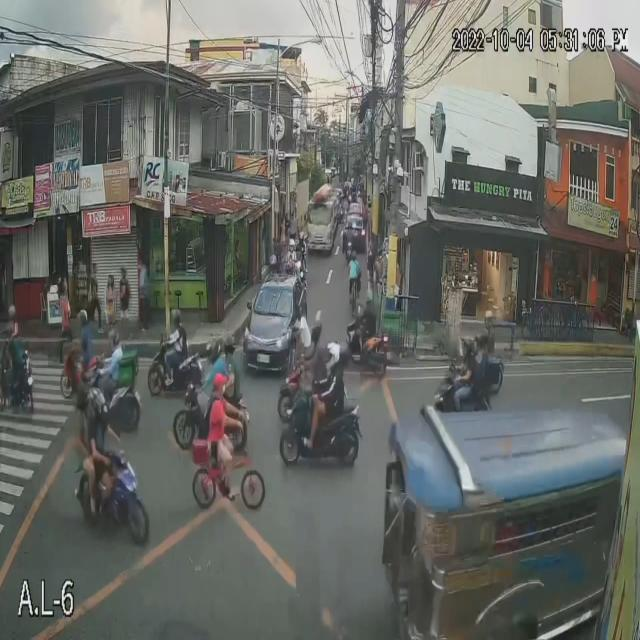Full-Faced: (83, 387, 110, 426), (102, 329, 122, 352), (324, 340, 339, 368), (472, 330, 487, 356), (458, 332, 471, 360), (76, 309, 90, 331), (169, 309, 183, 328), (481, 306, 492, 328), (365, 283, 375, 306), (6, 301, 16, 320), (287, 234, 295, 257), (297, 228, 307, 244), (350, 248, 358, 262)
Half-Faced: (294, 303, 306, 323)
Not-Wearing-Helmet: (211, 370, 229, 402)
